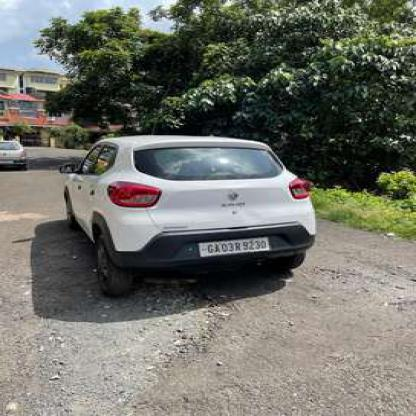license_plate: (196, 236, 269, 256)
